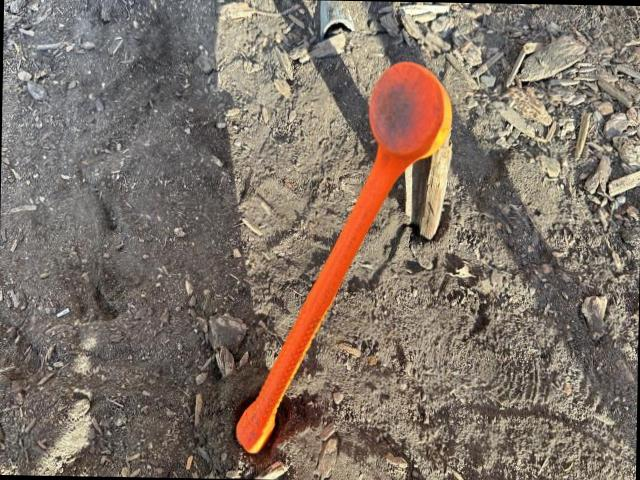hammer: (234, 56, 456, 457)
